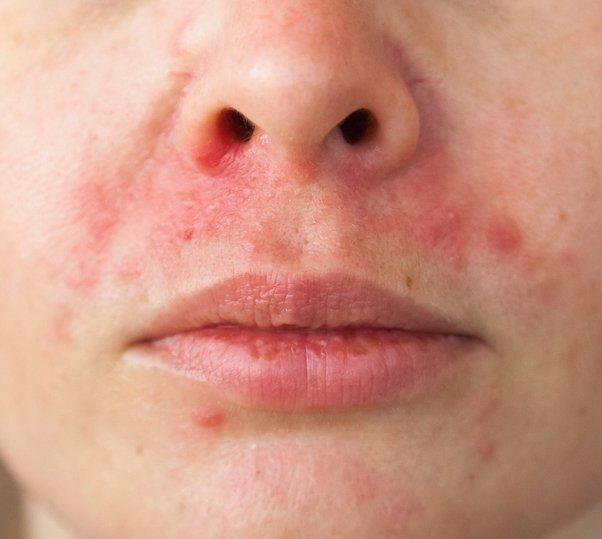Dry-Skin: (213, 433, 451, 531), (27, 30, 133, 209), (486, 29, 593, 181)
